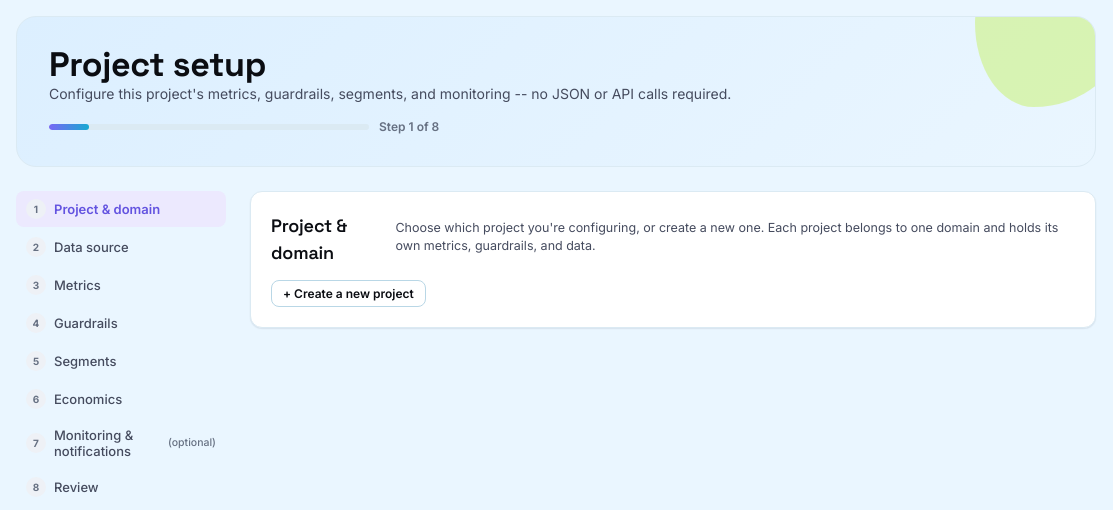
OnboardingPage step gating › blocks configuration steps until a project is selected
Click the button "3 Metrics": point(121, 285) [16, 267, 226, 303]
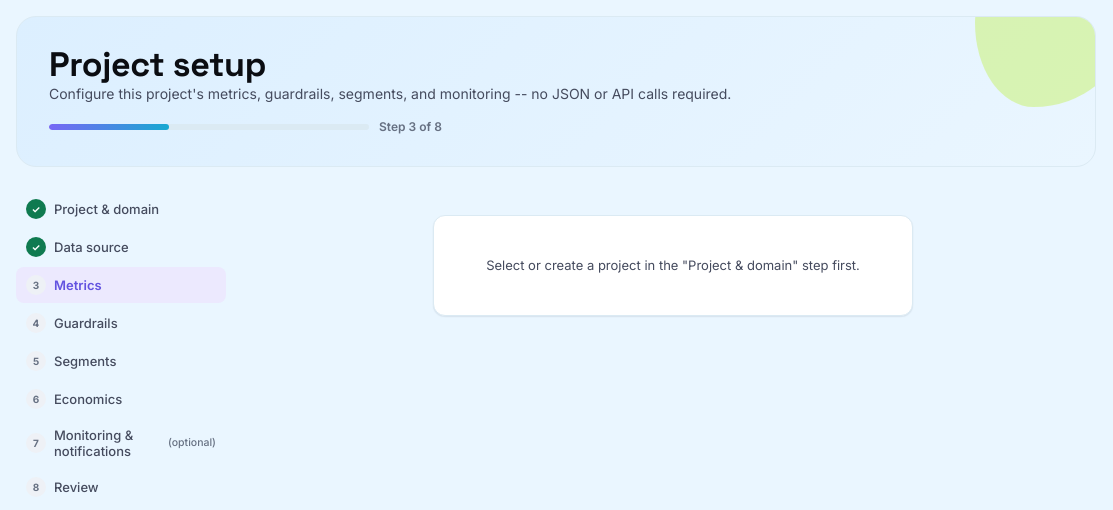
Now the text "Select or create a project" is shown, box [486, 257, 860, 273]
